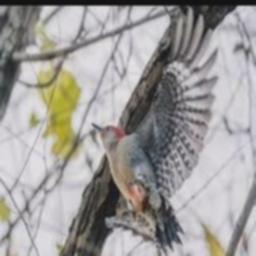Woodpecker: (92, 6, 218, 256)
